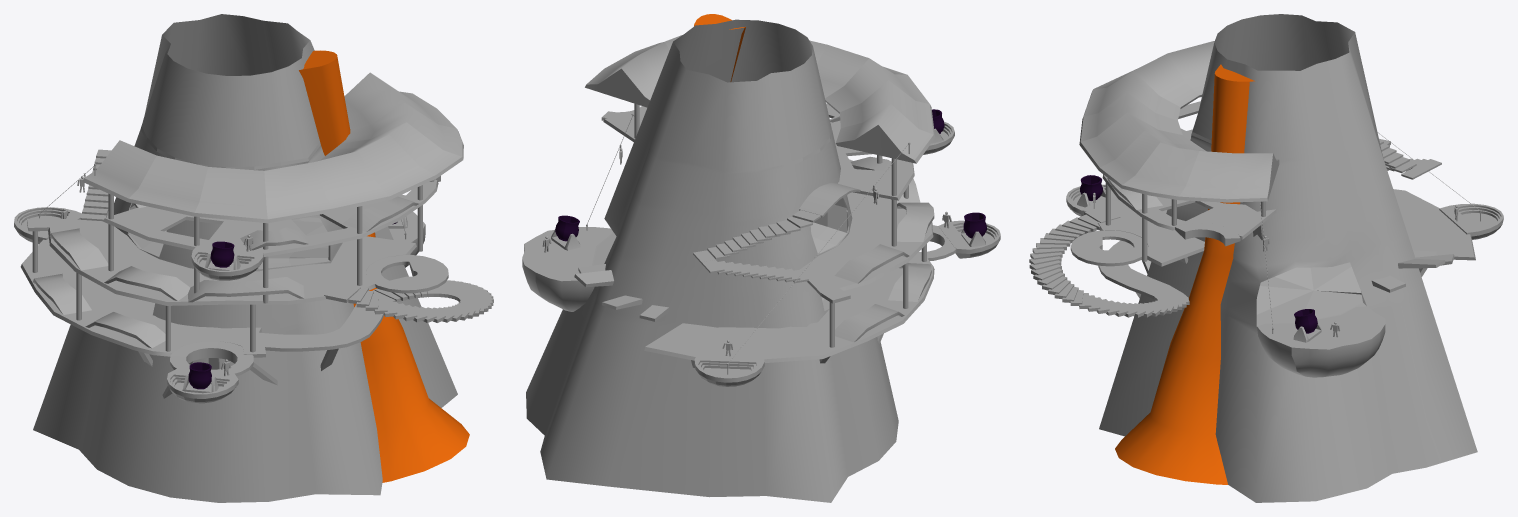
The model's file is LSVolcano3rdpassex.fbx.
3 renders of one model, left to right at view 1: azimuth 30°, elevation 25°; view 2: azimuth 150°, elevation 25°; view 3: azimuth 270°, elevation 25°, orthographic. The views are drawn at different scales.
Parts seen in each view (by area): view 1: Mountain_Exterior, House_Roof, Lava_Flow, House_Mid_Floor, House_Top_Floor, House_Mid_Floor1, Spiral_Staircase_1, Spiral_Staircase_4, Mid_Floor_Ring, Raised_Platform3, Bottom_Floor_Ring, Cannon_Roost (+12 smaller); view 2: Mountain_Exterior, House_Roof, House_Mid_Floor1, House_Mid_Floor, Bottom_Level_Balcony, SecondFloorStairs, House_Top_Floor, Cannon_Roost1, Raised_Platform4, Raised_Platform1, Raised_Platform5, Cannon_Roost2 (+5 smaller); view 3: Mountain_Exterior, House_Roof, Lava_Flow, Bottom_Level_Balcony, Spiral_Staircase_1, House_Mid_Floor1, House_Top_Floor, House_Mid_Floor, Mid_Floor_Ring, Spiral_Staircase_4, Cannon_Roost1, SecondFloorStairs (+2 smaller).
Part boxes in pixels (x1,y1,x2,y2): Mountain_Exterior: [33, 14, 457, 502]; House_Roof: [82, 72, 463, 223]; Lava_Flow: [299, 50, 469, 482]; House_Mid_Floor: [48, 218, 416, 305]; House_Top_Floor: [103, 179, 438, 256]; House_Mid_Floor1: [20, 211, 261, 356]; Spiral_Staircase_1: [324, 280, 493, 322]; Spiral_Staircase_4: [255, 289, 395, 351]; Mid_Floor_Ring: [366, 254, 448, 293]; Raised_Platform3: [187, 277, 304, 302]; Bottom_Floor_Ring: [170, 341, 253, 376]; Cannon_Roost: [191, 245, 263, 280]; Mountain_Exterior: [526, 19, 898, 502]; House_Roof: [585, 35, 935, 163]; House_Mid_Floor1: [644, 258, 934, 362]; House_Mid_Floor: [800, 159, 933, 296]; Bottom_Level_Balcony: [522, 227, 612, 311]; SecondFloorStairs: [693, 210, 821, 283]; House_Top_Floor: [603, 103, 914, 200]; Cannon_Roost1: [694, 354, 764, 386]; Raised_Platform4: [834, 244, 909, 283]; Raised_Platform1: [897, 202, 934, 241]; Raised_Platform5: [835, 304, 904, 342]; Cannon_Roost2: [938, 220, 1000, 258]; Mountain_Exterior: [1099, 14, 1477, 502]; House_Roof: [1079, 41, 1279, 202]; Lava_Flow: [1115, 64, 1254, 484]; Bottom_Level_Balcony: [1257, 306, 1385, 377]; Spiral_Staircase_1: [1029, 206, 1189, 317]; House_Mid_Floor1: [1393, 189, 1475, 260]; House_Top_Floor: [1102, 101, 1276, 239]; House_Mid_Floor: [1098, 200, 1204, 266]; Mid_Floor_Ring: [1070, 230, 1148, 266]; Spiral_Staircase_4: [1098, 240, 1188, 300]; Cannon_Roost1: [1439, 203, 1503, 239]; SecondFloorStairs: [1379, 140, 1441, 179].
Size of the model in its own units: 306 by 303 by 351.
